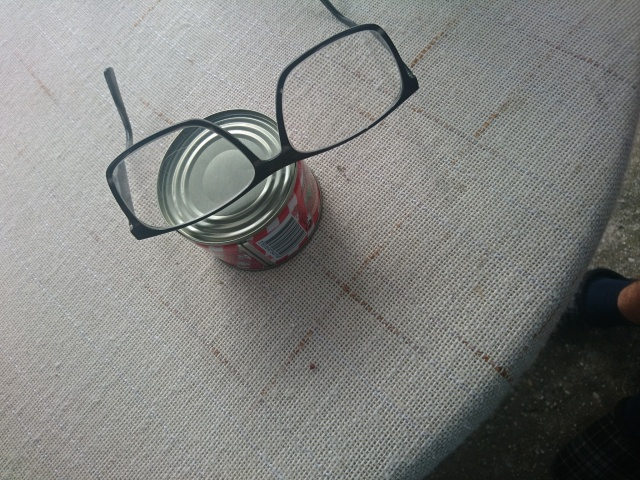Podravka Luncheon Meat 150g: (153, 105, 326, 275)
